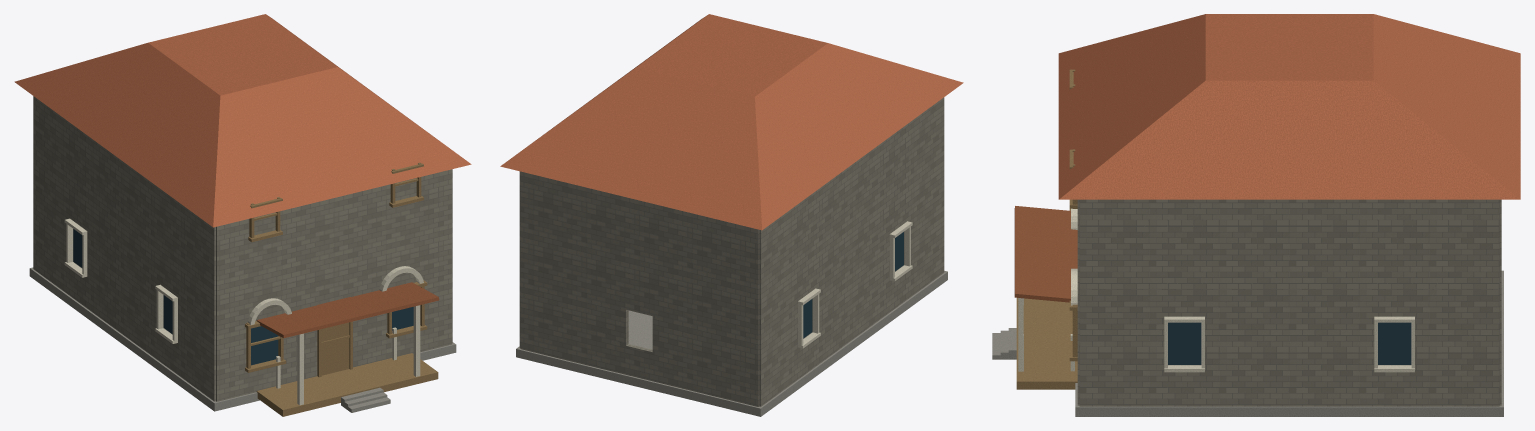
File: WINNERY2_lod2.glb
The picture shows the model from 3 angles, left to right: view 1: azimuth 30°, elevation 25°; view 2: azimuth 150°, elevation 25°; view 3: azimuth 270°, elevation 25°; orthographic projection. The views are drawn at different scales.
Visible parts, largest first — view 1: WINNERY2_LOD2; view 2: WINNERY2_LOD2; view 3: WINNERY2_LOD2.
Part boxes in pixels (x1=…): WINNERY2_LOD2: x1=14, y1=14, x2=471, y2=416; WINNERY2_LOD2: x1=500, y1=14, x2=963, y2=416; WINNERY2_LOD2: x1=992, y1=14, x2=1520, y2=416.
Bounding box in the file's own units: 9.9 × 9.5 × 15.1.
Materials: 8 (6 with a texture image).
